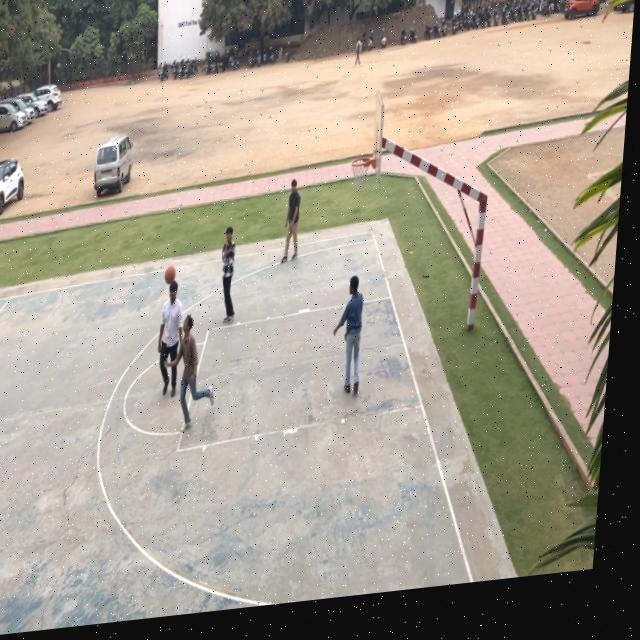basketball: (164, 264, 177, 286)
hoop: (349, 155, 372, 196)
